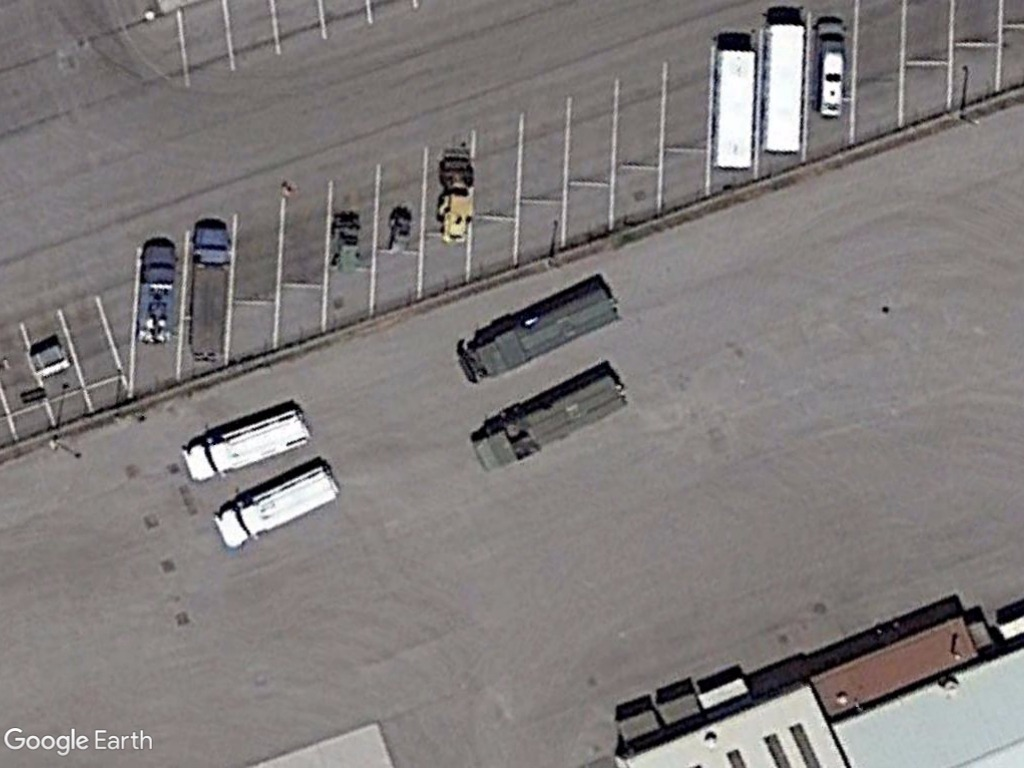longvehicle: (757, 16, 806, 158), (711, 45, 757, 175)
other: (445, 270, 629, 383), (464, 363, 634, 477), (183, 220, 233, 367), (136, 239, 183, 352), (811, 14, 852, 123)
truck: (209, 461, 346, 555), (173, 402, 313, 484)
